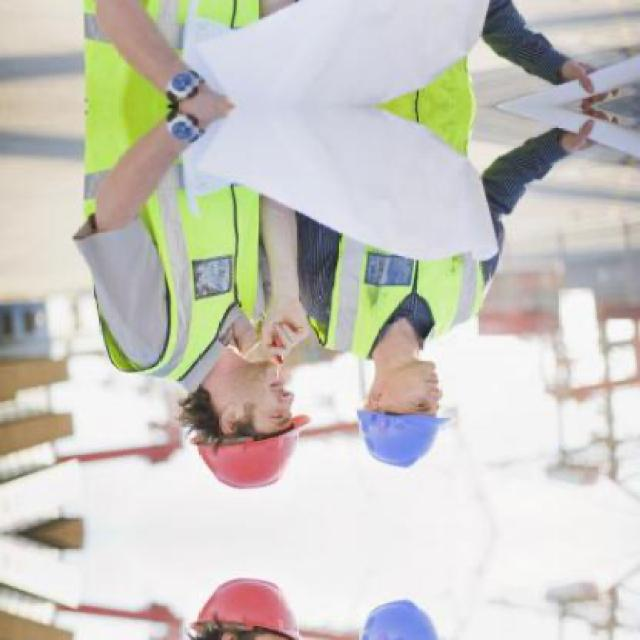con casco: (164, 335, 320, 483), (348, 328, 467, 483)
